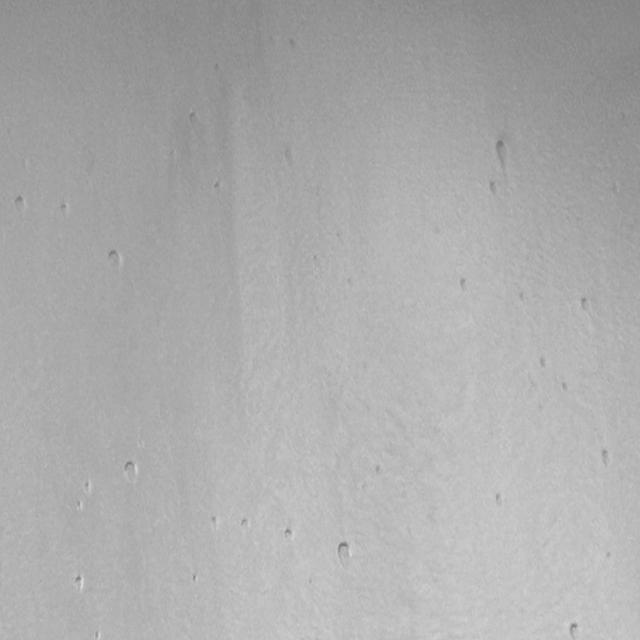pin holes: (489, 140, 512, 172), (333, 540, 356, 569), (104, 246, 126, 276), (183, 109, 204, 137), (278, 147, 300, 172), (120, 458, 140, 485), (596, 446, 616, 472), (576, 294, 597, 318), (486, 180, 506, 202), (13, 193, 30, 218), (567, 620, 587, 640), (70, 572, 86, 595), (459, 274, 473, 295), (283, 526, 299, 544), (537, 355, 555, 371), (494, 492, 508, 512), (372, 462, 387, 478), (58, 200, 71, 218), (558, 378, 572, 394), (239, 516, 252, 532), (213, 179, 225, 196), (208, 514, 220, 530), (72, 499, 84, 515), (84, 480, 95, 496), (191, 573, 201, 585), (92, 628, 103, 638)
